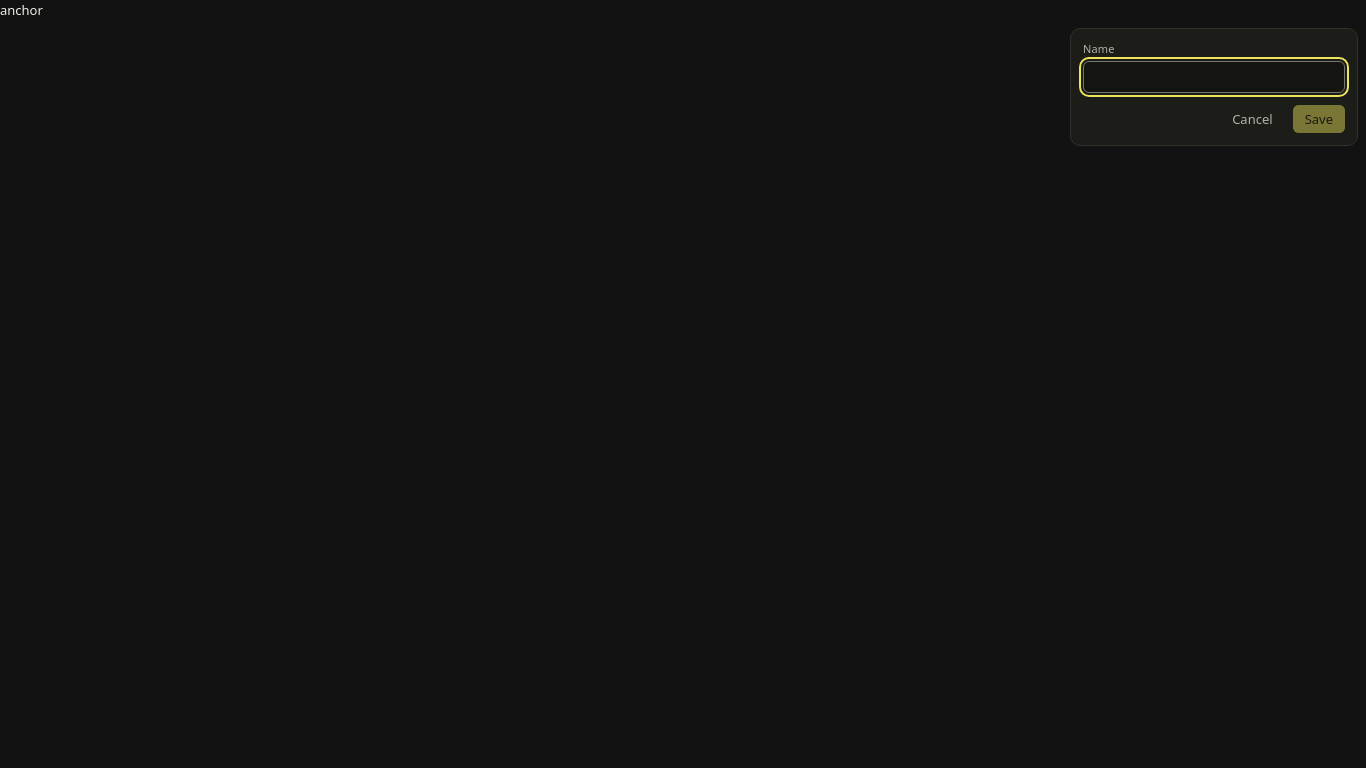
saving the playlist under a name › reads what is saved again when a name turns out to be taken
Type "Evening" into the field labelled "Name".
click(1214, 77); type("Evening")  # box left=1083, top=61, right=1345, bottom=93
Then press Enter
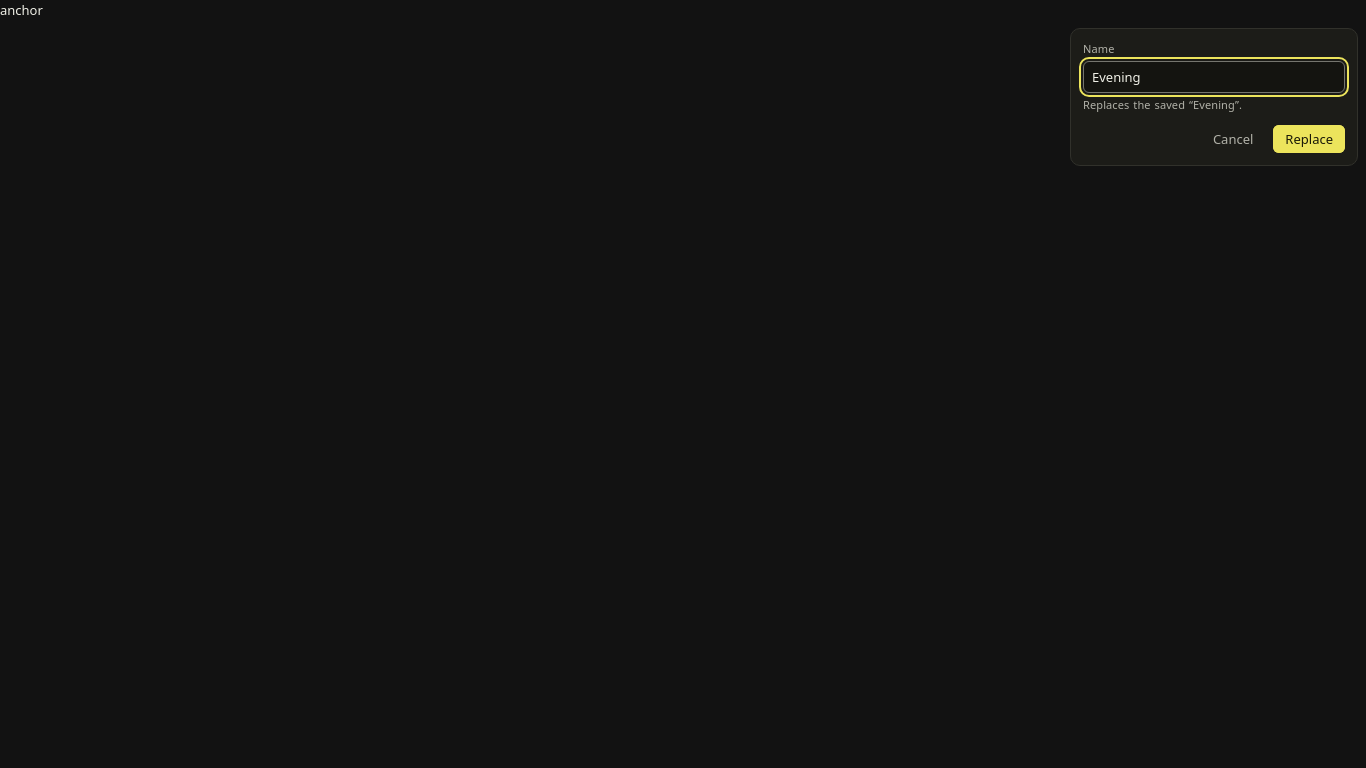
Expected: the text "Replaces the saved “Evening”." is shown, left=1083, top=97, right=1242, bottom=112
Expected: the button "Replace" is enabled, left=1273, top=125, right=1345, bottom=153
